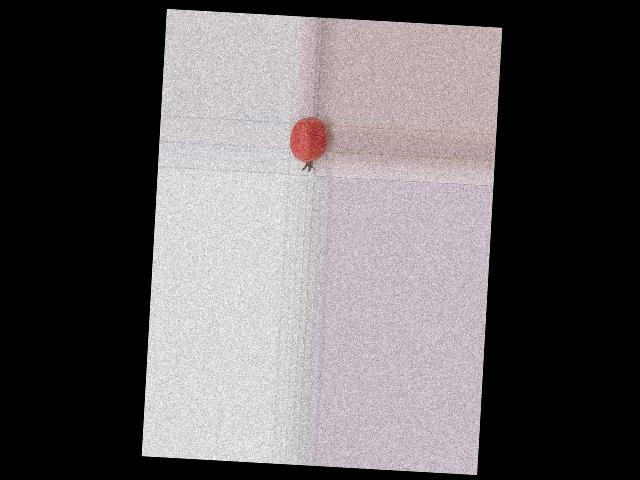tomato: (288, 116, 328, 163)
